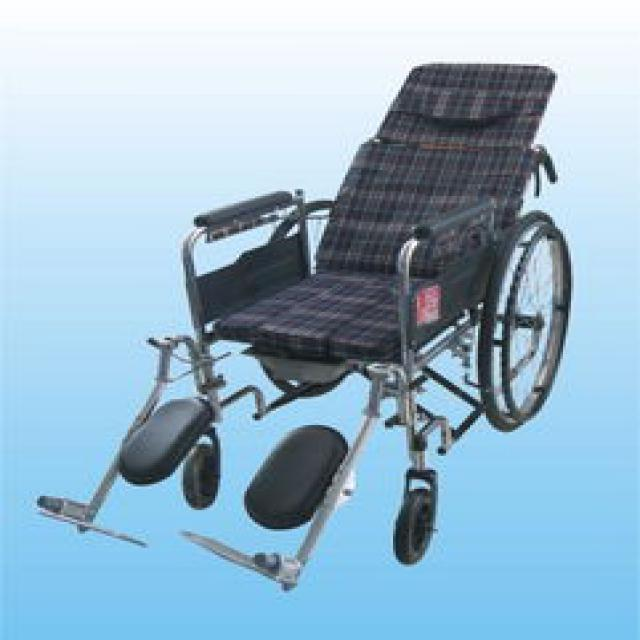wheelchair: (26, 33, 598, 605)
